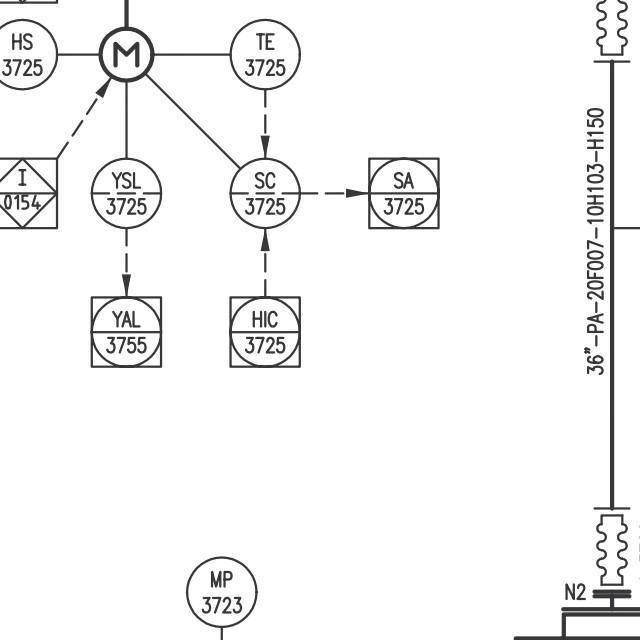EJ: (587, 497, 638, 595), (585, 0, 635, 70)
M: (95, 20, 158, 85)
